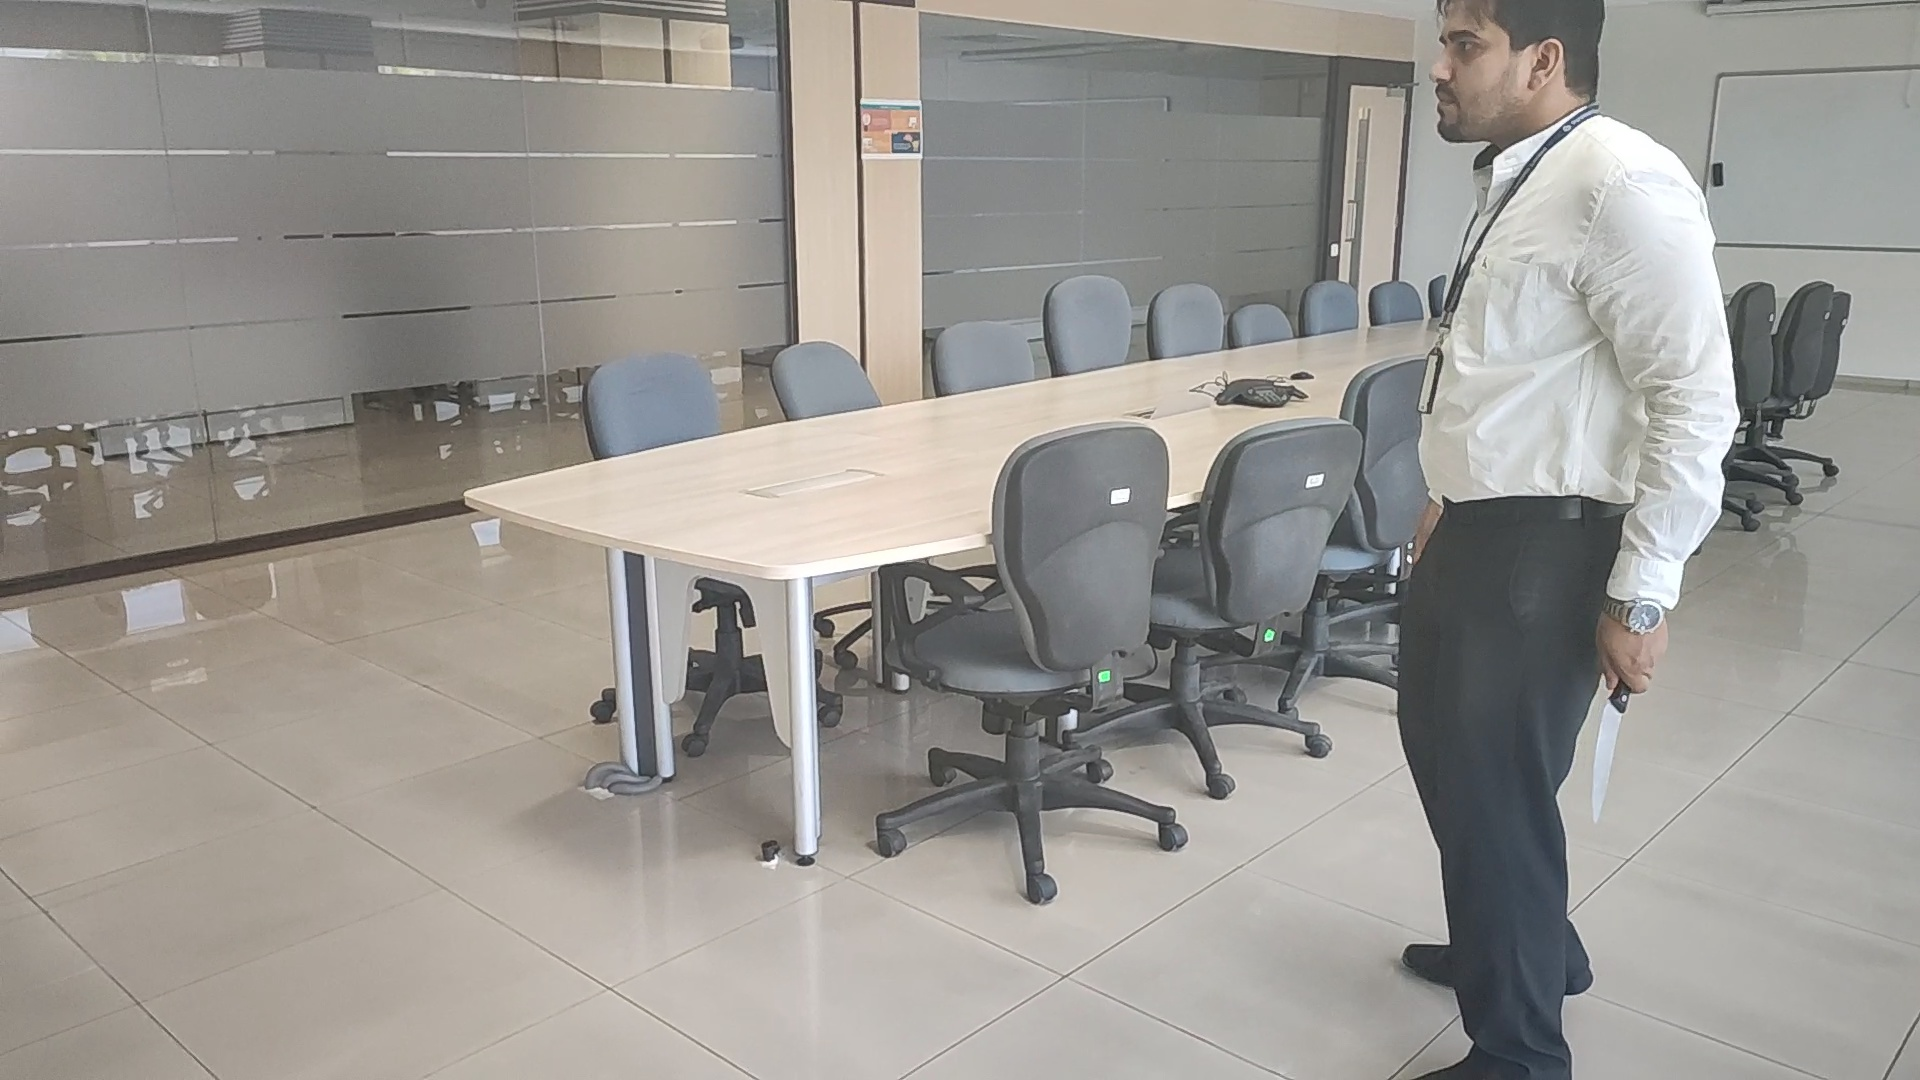knife: (1590, 695, 1615, 822)
